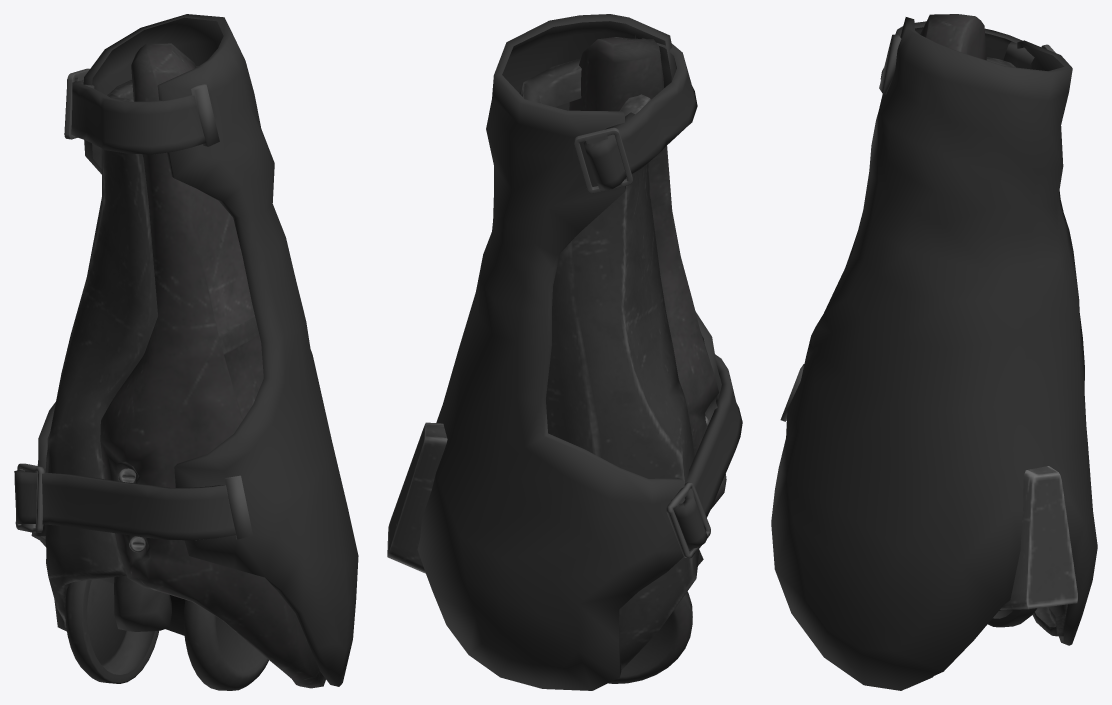
The model's file is rightFrontArm.obj.
3 views of the same model, side by side, from view 1: azimuth 30°, elevation 25°; view 2: azimuth 150°, elevation 25°; view 3: azimuth 270°, elevation 25° (orthographic). The views are drawn at different scales.
Parts seen in each view (by area): view 1: desirefx_me_3_mesh0_mesh0000_002; view 2: desirefx_me_3_mesh0_mesh0000_002; view 3: desirefx_me_3_mesh0_mesh0000_002.
Part boxes in pixels (x1=…): desirefx_me_3_mesh0_mesh0000_002: x1=14, y1=14, x2=358, y2=690; desirefx_me_3_mesh0_mesh0000_002: x1=387, y1=14, x2=742, y2=690; desirefx_me_3_mesh0_mesh0000_002: x1=771, y1=14, x2=1097, y2=690.
Bounding box in the file's own units: 0.0823 × 0.1603 × 0.0775.
